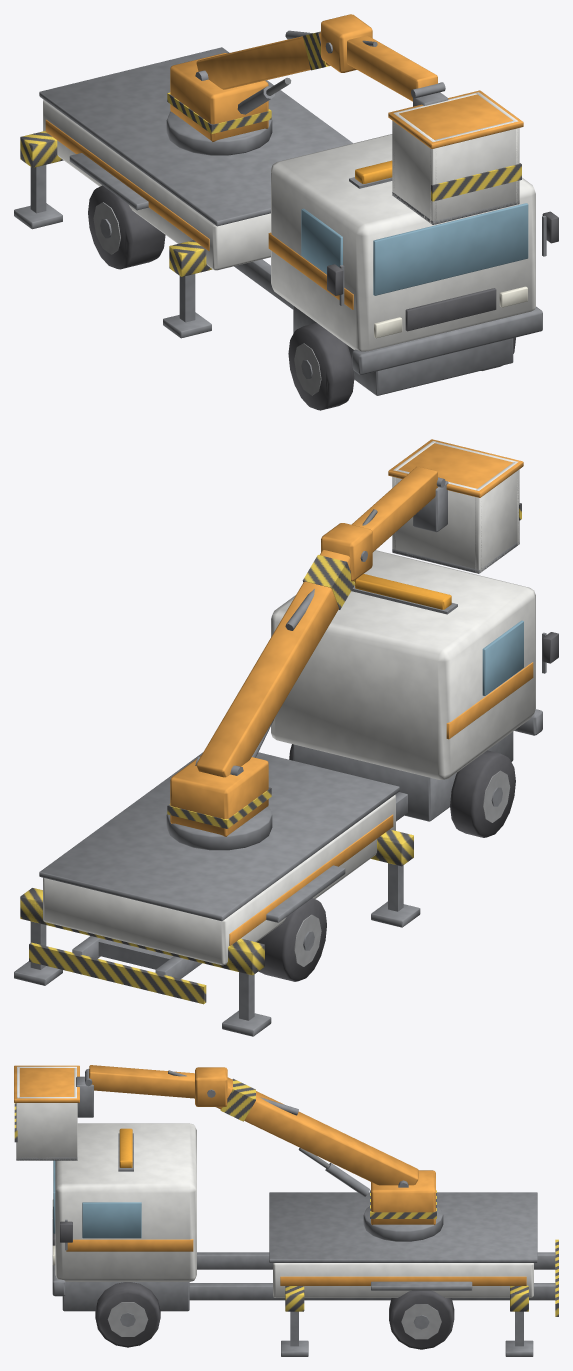
Rendered from Works_CherryPicker.fbx.
3 views of the same model, one above another, from view 1: azimuth 30°, elevation 25°; view 2: azimuth 150°, elevation 25°; view 3: azimuth 270°, elevation 25° (orthographic). The views are drawn at different scales.
Parts seen in each view (by area): view 1: Body, Basket, Turret, Arm1, Arm2, Wheel_1, Wheel_3; view 2: Body, Basket, Arm1, Turret, Arm2, Wheel_1, Wheel_3; view 3: Body, Arm1, Basket, Turret, Arm2, Wheel_0, Wheel_2.
Part boxes in pixels (<box>): Body: <box>14,47,558,395</box>; Basket: <box>388,82,523,224</box>; Turret: <box>166,53,272,155</box>; Arm1: <box>195,31,330,114</box>; Arm2: <box>285,14,437,101</box>; Wheel_1: <box>288,323,354,410</box>; Wheel_3: <box>88,185,165,269</box>; Body: <box>14,550,558,1036</box>; Basket: <box>388,439,523,573</box>; Arm1: <box>195,550,356,777</box>; Turret: <box>166,756,272,850</box>; Arm2: <box>285,466,437,630</box>; Wheel_1: <box>450,750,515,837</box>; Wheel_3: <box>257,898,326,981</box>; Body: <box>52,1123,558,1356</box>; Arm1: <box>216,1077,418,1196</box>; Basket: <box>14,1065,93,1160</box>; Turret: <box>363,1170,443,1241</box>; Arm2: <box>89,1065,298,1115</box>; Wheel_0: <box>95,1282,160,1347</box>; Wheel_2: <box>389,1290,454,1349</box>.
Size of the model in its own units: 2.88 by 3.74 by 7.52.
1 material, 1 textured.
